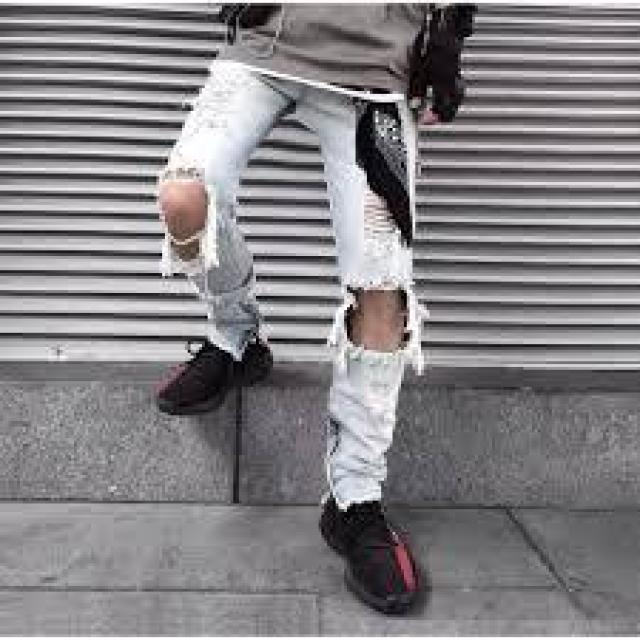pants: (154, 66, 424, 500)
